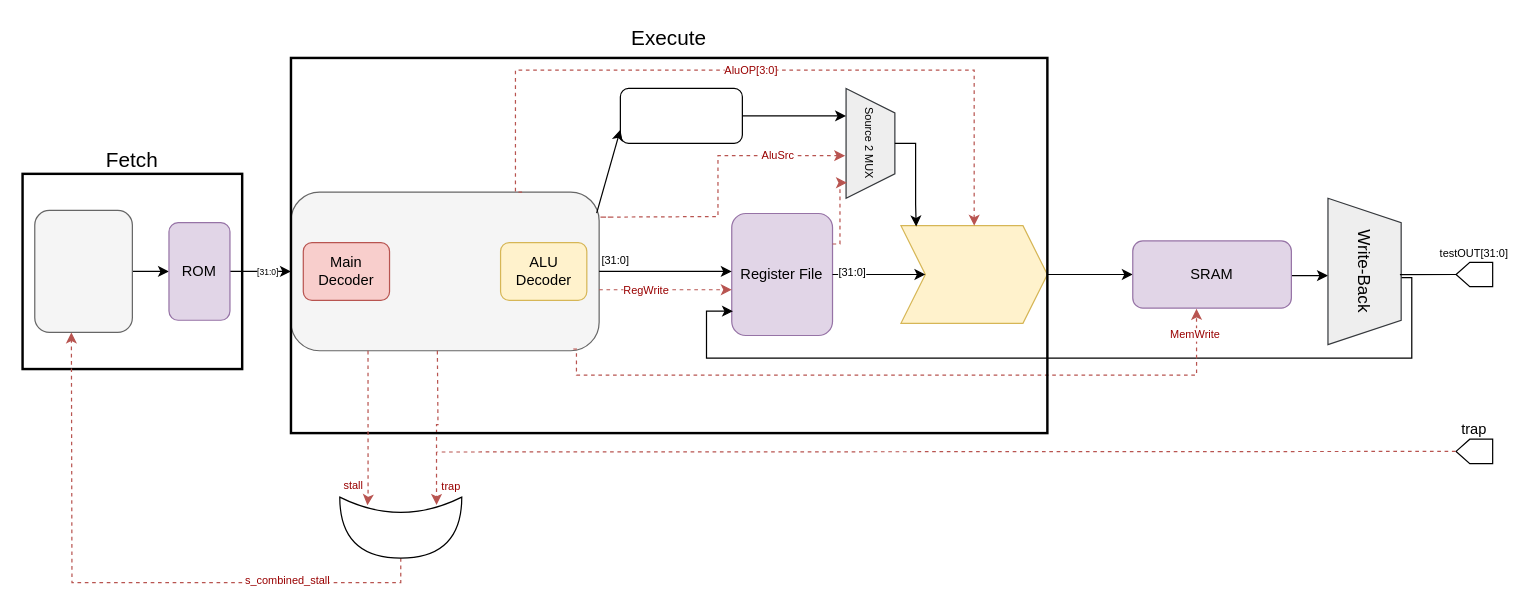
The diagram is 1531 pixels wide and 614 high, and some of its shapes have lost their labels. Here are the shapes that lost their labels. From the top down, the box of each, then its label:
(619, 87, 742, 143): ImmGen
(34, 209, 132, 332): Program Counter
(290, 191, 599, 351): Control Unit
(900, 224, 1047, 323): ALU
